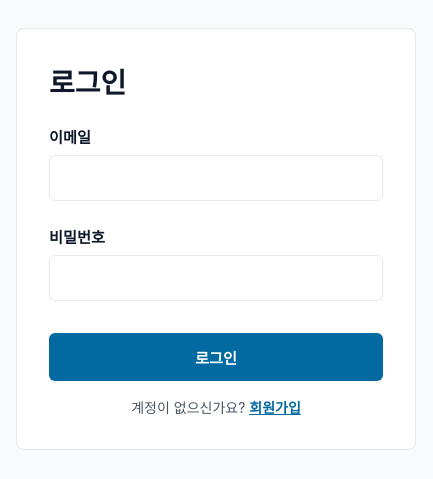
Test case: LoginPage › 빈 입력으로 제출 시 오류 메시지를 보여준다
Click the button "로그인": point(216, 357) [49,333,383,381]
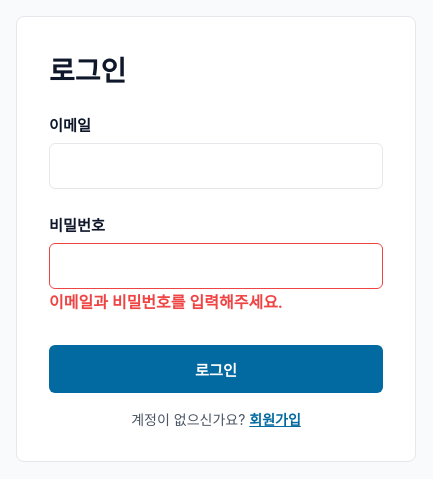
Check: the text "이메일과 비밀번호를 입력해주세요." is shown, box [49,292,283,312]
